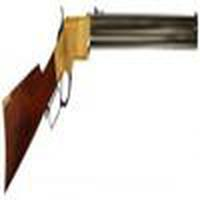gun: (1, 10, 197, 188)
